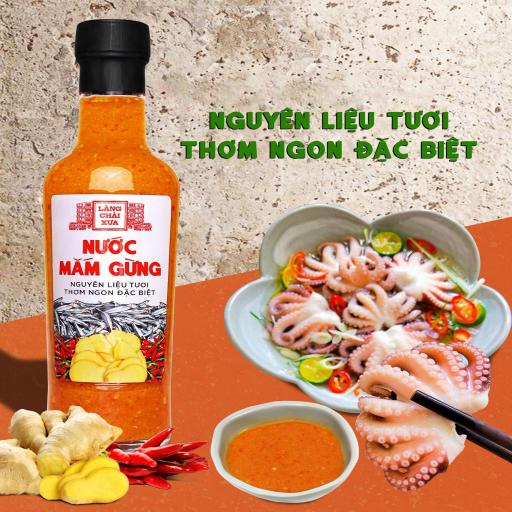bottle: (43, 20, 179, 447)
